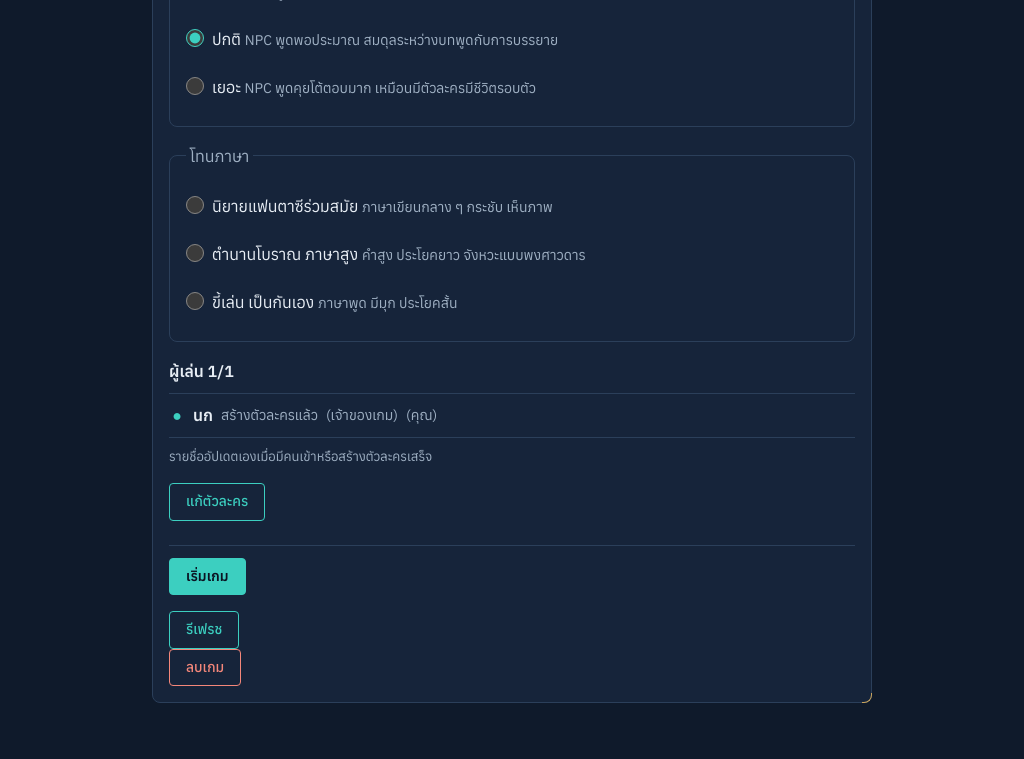
Test: Character loot step (GEN-048) › C4: confirming without an item is refused on the page and nothing is sent
(page scrolled)
Click the button "แก้ตัวละคร": (217, 502) [169,483,265,521]
(page scrolled)
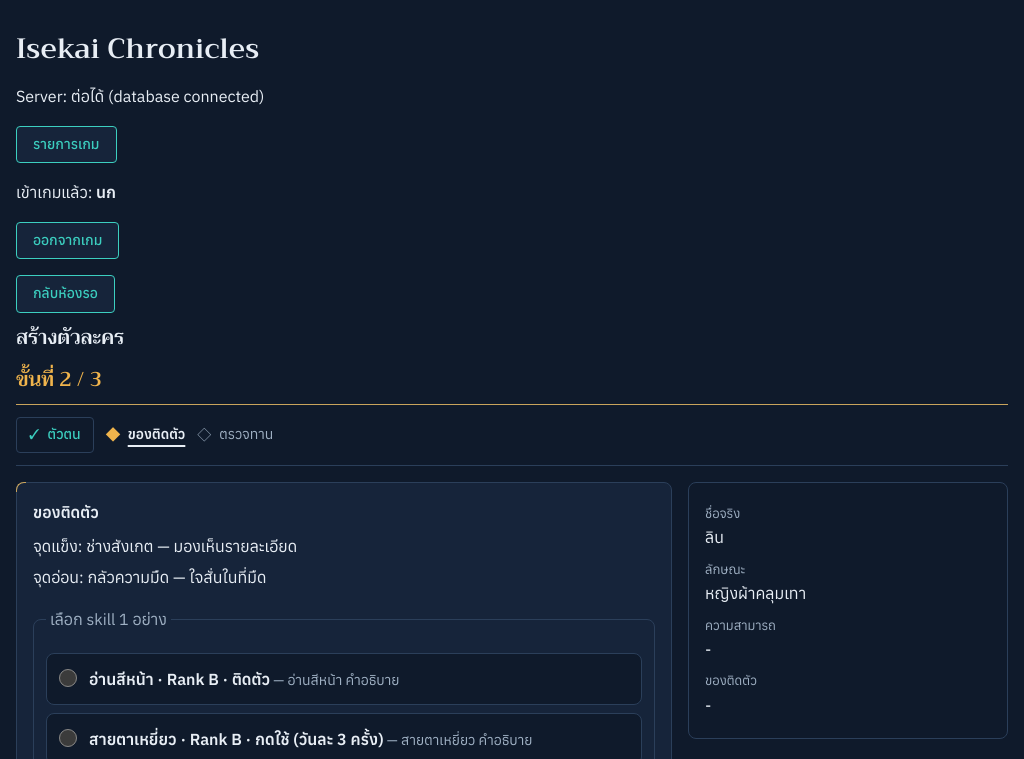
Click the radio button labelled "อ่านสีหน้า · Rank B · ติดตัว — อ่านสีหน้า คำอธิบาย": (68, 678) [59,668,77,686]
(page scrolled)
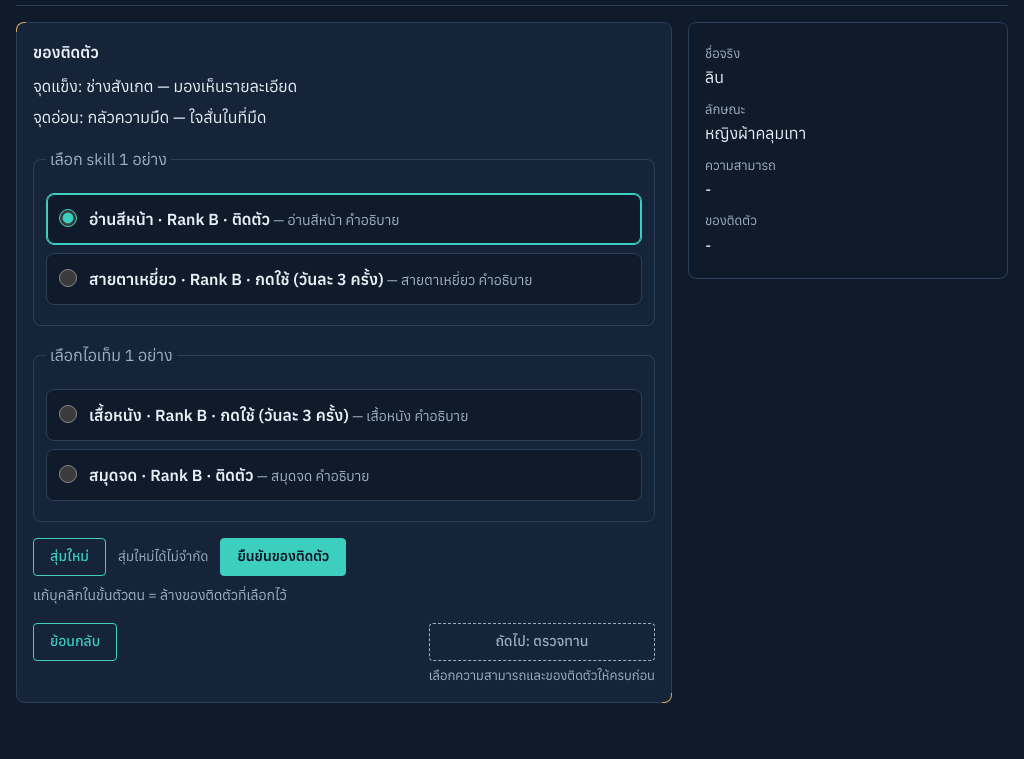
Click the button "ยืนยันของติดตัว": (283, 557) [220,538,346,576]
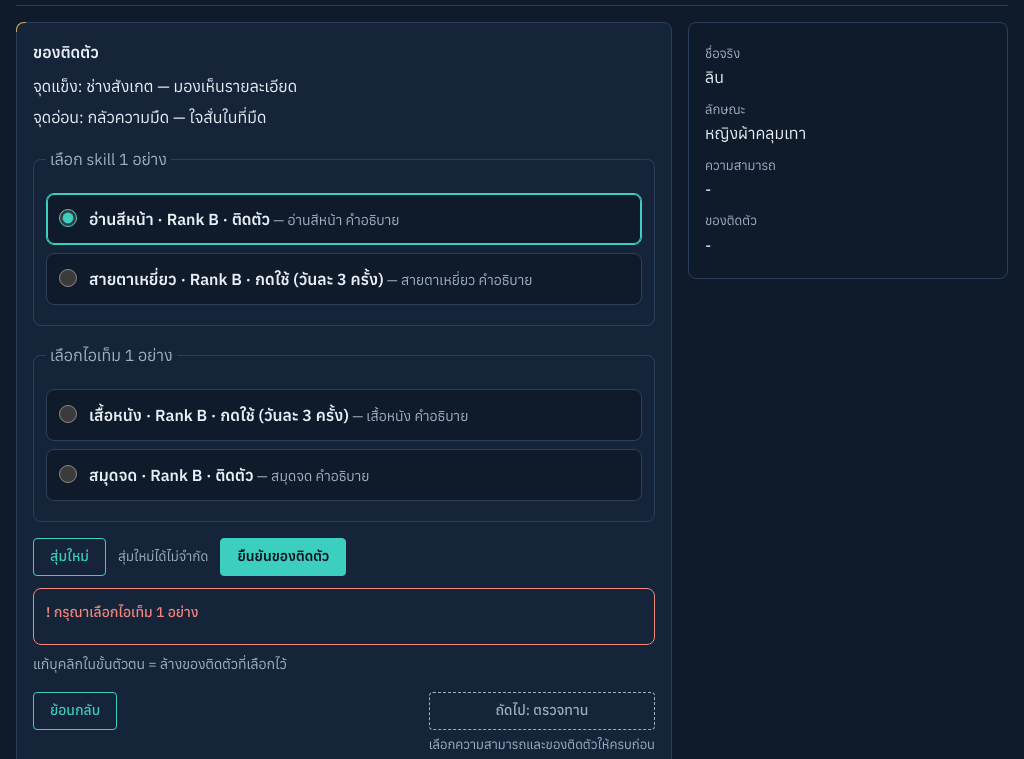
Expected: the message reads "กรุณาเลือกไอเท็ม 1 อย่าง", [54,603,198,621]
